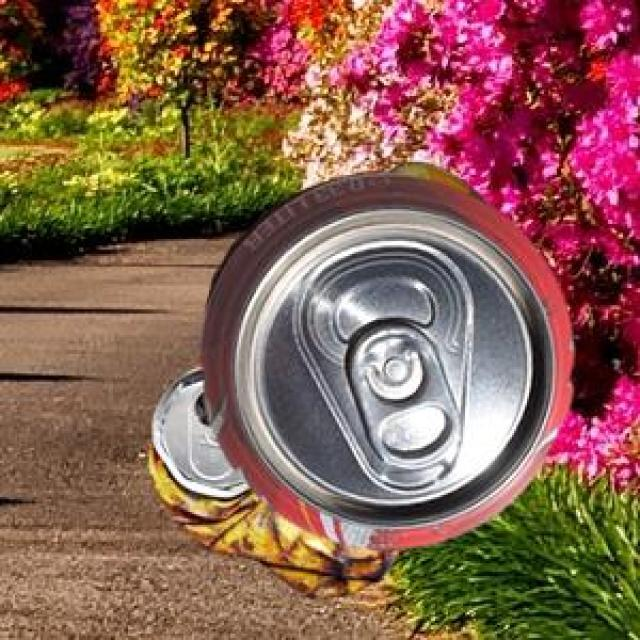Can: (197, 170, 569, 545), (146, 359, 398, 594), (387, 159, 482, 199)
